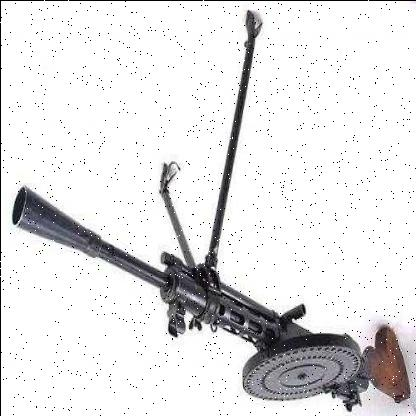rifle: (7, 171, 409, 414)
